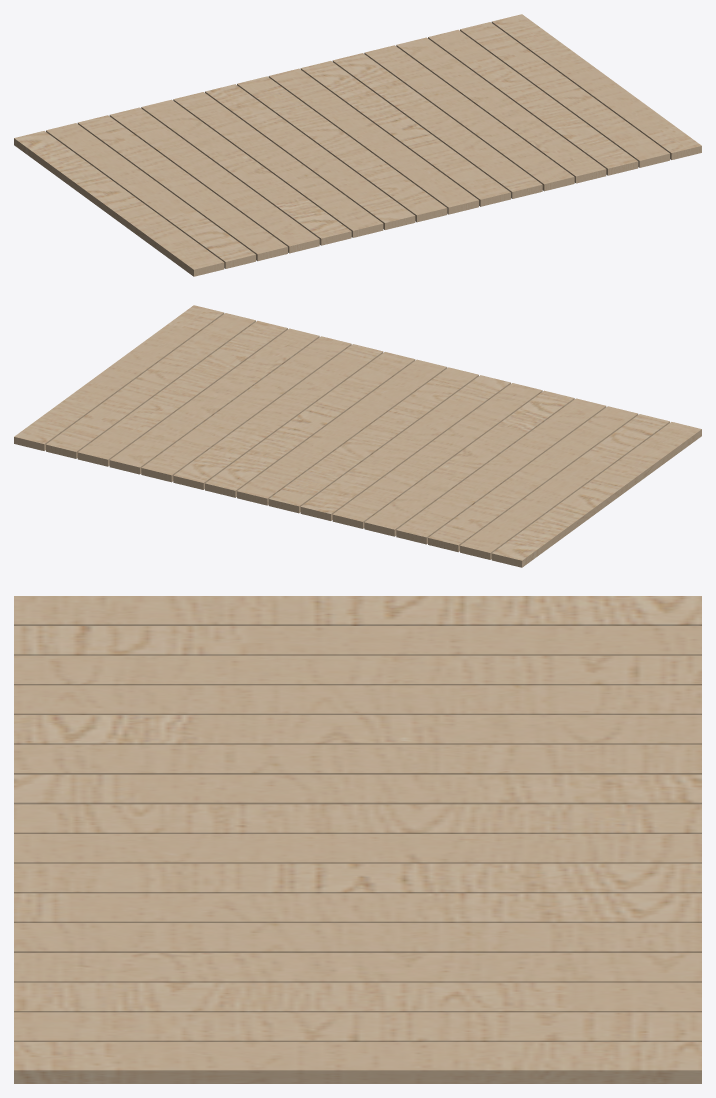
Rendered from King’s Tower Floor,.glb.
The picture shows the model from 3 angles, top to bottom: view 1: azimuth 30°, elevation 25°; view 2: azimuth 150°, elevation 25°; view 3: azimuth 270°, elevation 25°; orthographic projection. The views are drawn at different scales.
Visible parts, largest first — view 1: KT_floor_kit; view 2: KT_floor_kit; view 3: KT_floor_kit.
Boxes of the visible parts, bbox=[...] form: KT_floor_kit: bbox=[14, 14, 701, 276]; KT_floor_kit: bbox=[14, 305, 701, 567]; KT_floor_kit: bbox=[14, 596, 701, 1083].
Bounding box in the file's own units: 2.36 × 0.0313 × 1.45.
Materials: 1 (1 with a texture image).
